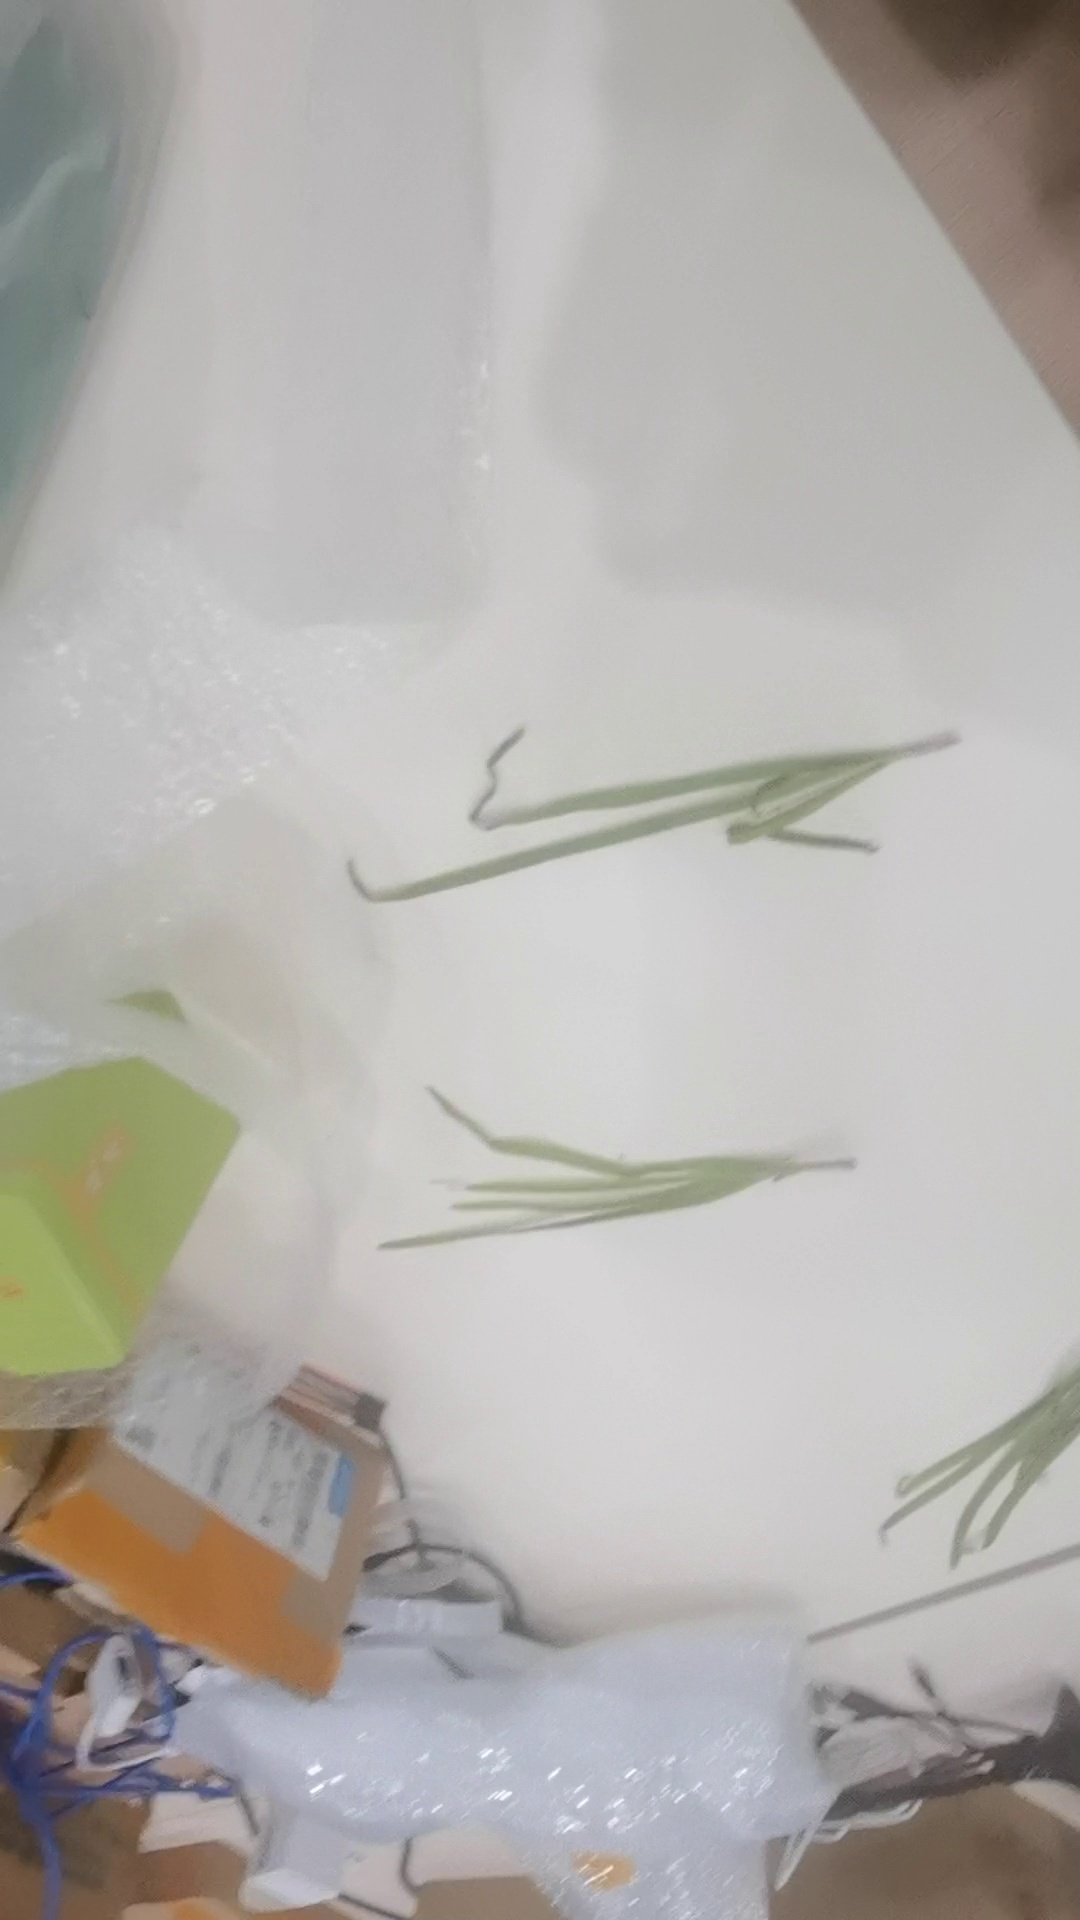chives: (351, 1054, 861, 1278), (349, 715, 981, 891), (862, 1309, 1077, 1568)
